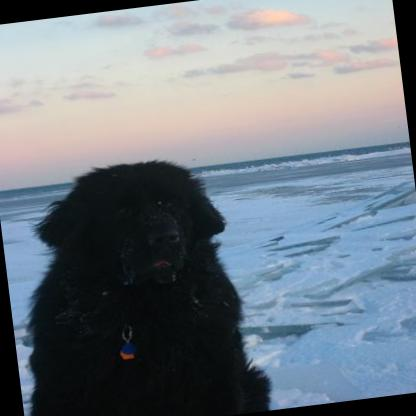Newfoundland: (0, 149, 271, 416)
